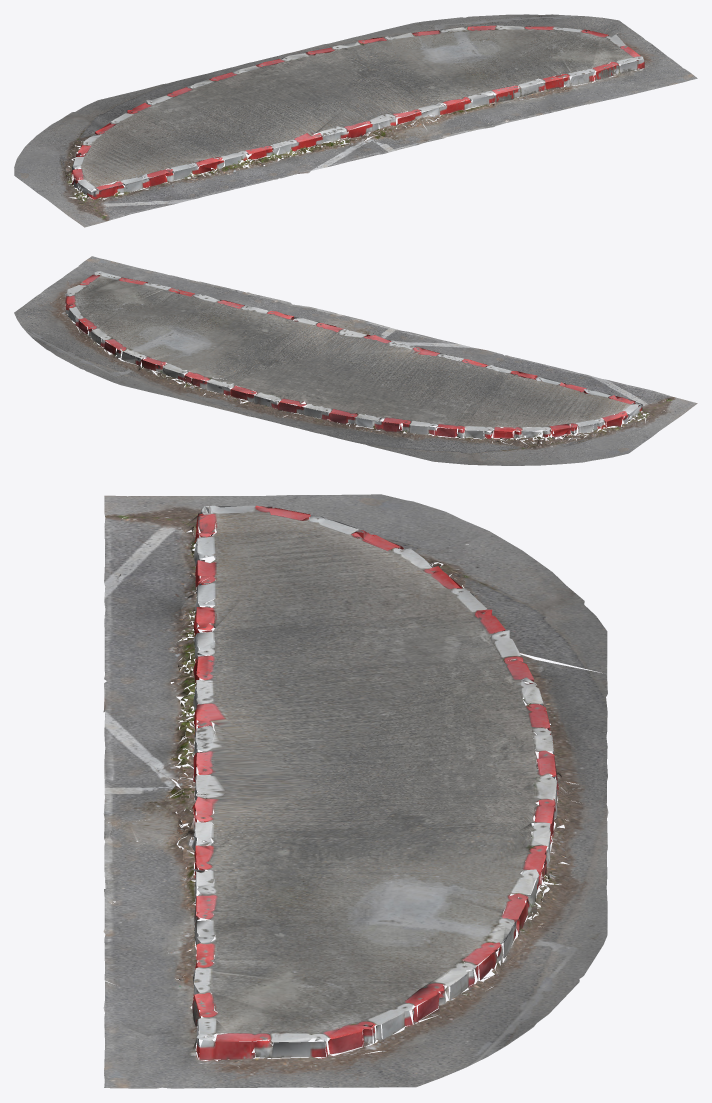
Rendered from curb_3d_scan.glb.
3 renders of one model, top to bottom at view 1: azimuth 30°, elevation 25°; view 2: azimuth 150°, elevation 25°; view 3: azimuth 270°, elevation 25°, orthographic. The views are drawn at different scales.
Parts seen in each view (by area): view 1: curb_3d_scan.001; view 2: curb_3d_scan.001; view 3: curb_3d_scan.001.
Part boxes in pixels (left/top/right/bottom): curb_3d_scan.001: left=14, top=14, right=697, bottom=227; curb_3d_scan.001: left=14, top=256, right=697, bottom=465; curb_3d_scan.001: left=103, top=494, right=608, bottom=1088.
Size of the model in its own units: 10.86 by 0.2286 by 3.92.
Materials: 1 (1 with a texture image).
